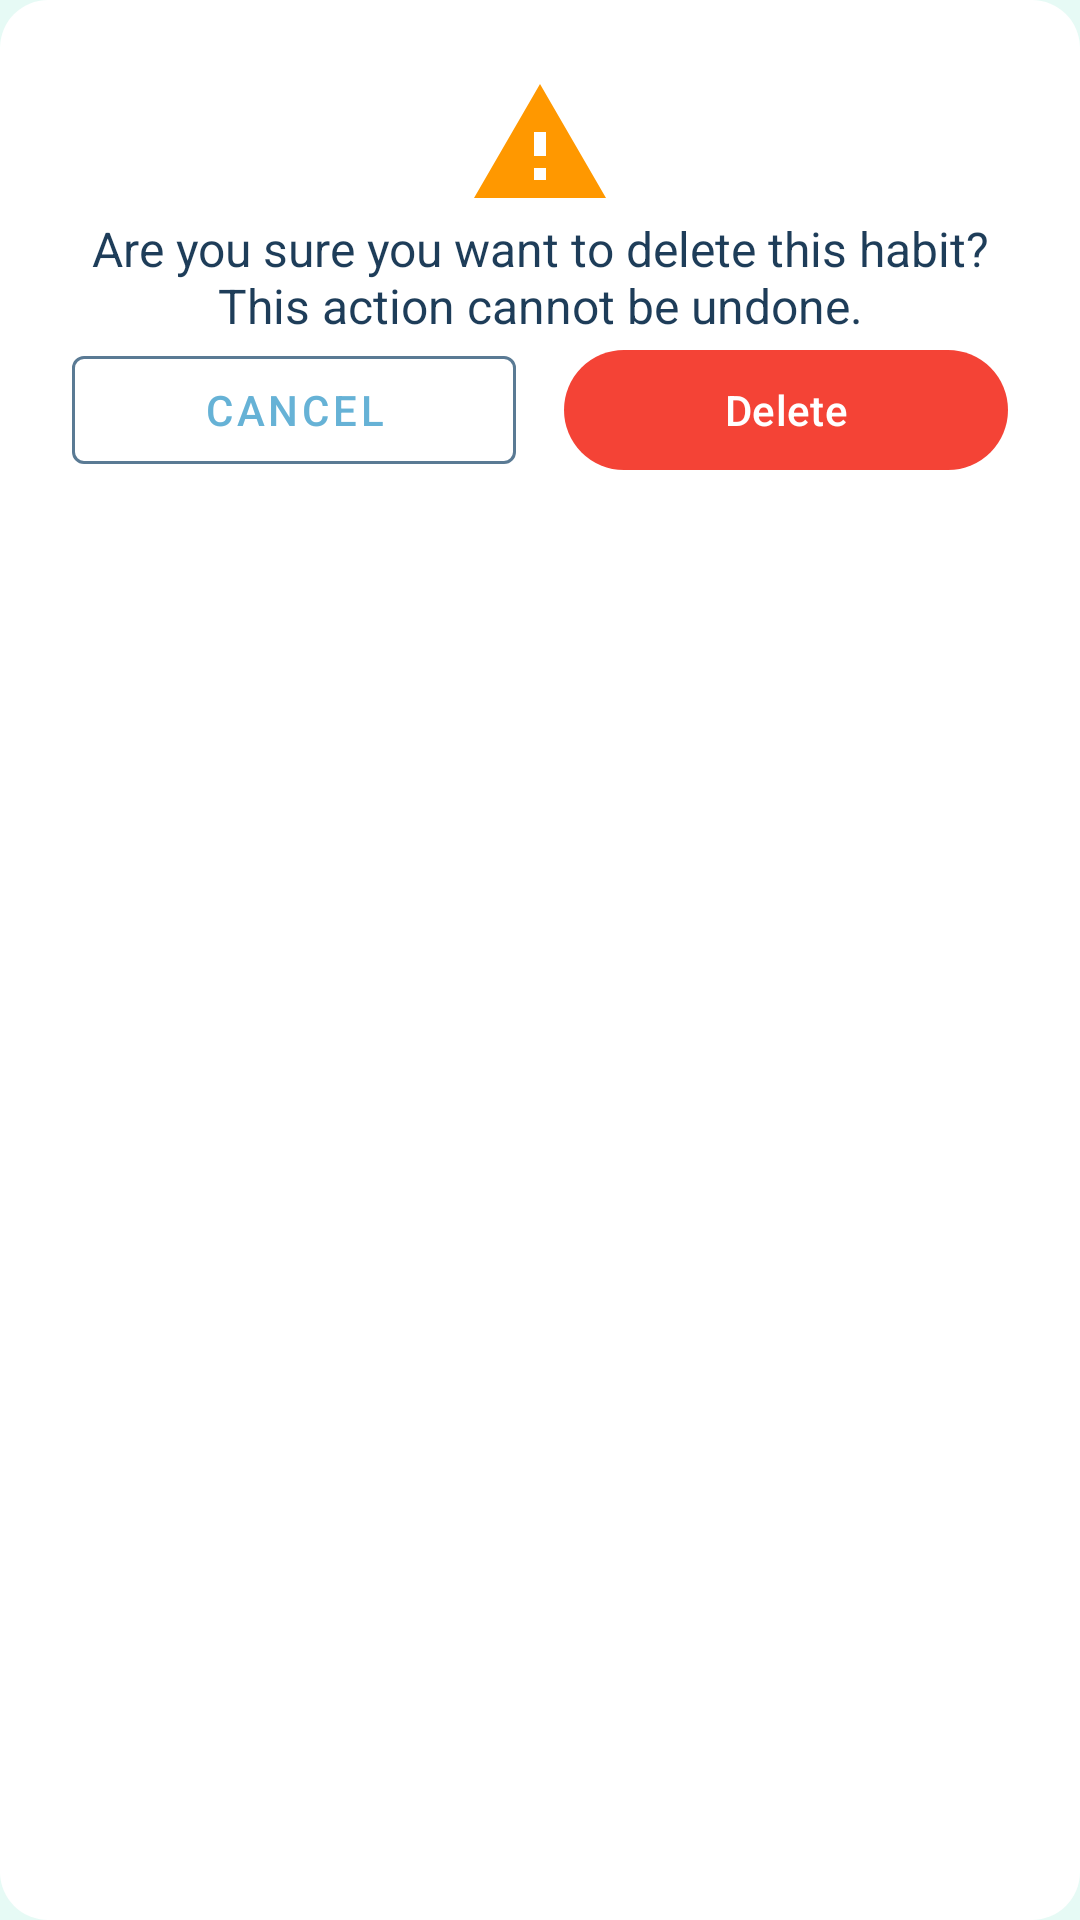

Named icons in this screenshot (1080 × 1920) and their centers, (x,y):
warning: (540,141)
